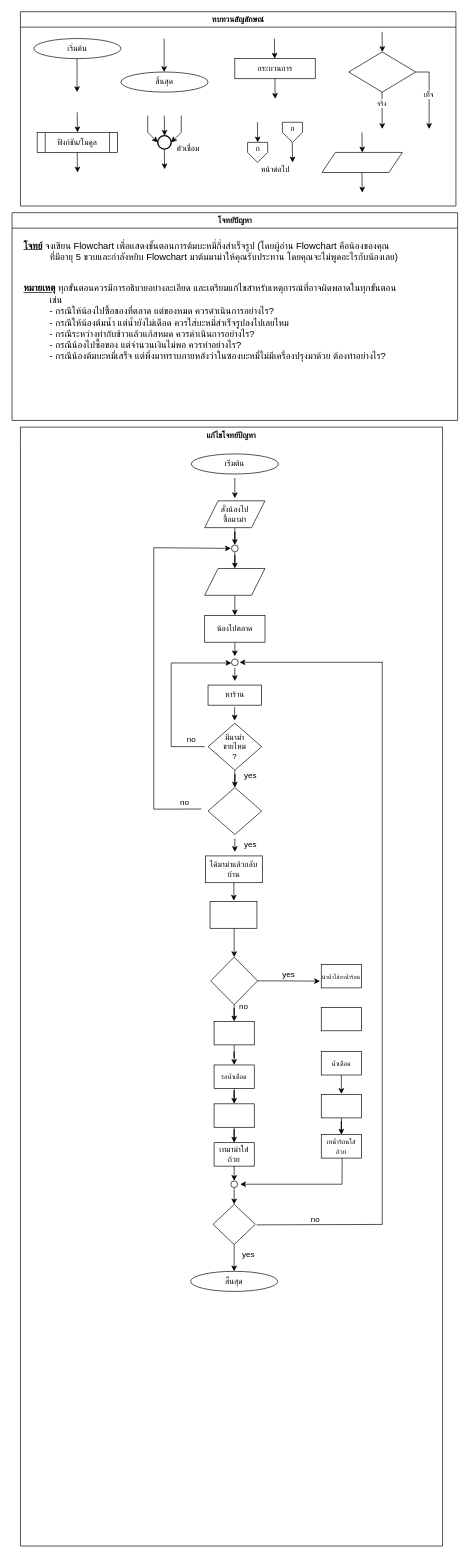
The diagram is 469 pixels wide and 1558 high, and some of its shapes have lost their labels. The shapes that lost their labels are listed below. From the top down, each one's centre as x and y in pixels, then its label:
point (382, 71): ประโยคเงื่อนไข
point (361, 162): แสดงผล/รับค่า
point (234, 581): ให้เงินน้อง
point (234, 810): เงินพอไหม
point (233, 914): นำน้ำใส่หม้อ
point (234, 980): แก๊สหมดมั้ย ?
point (233, 1033): ตั้งหม้อ
point (341, 1019): เสียบกาน้ำร้อน
point (233, 1115): ใส่มาม่าลง ในหม้อ
point (341, 1106): เอามาม่าใส่ถ้วย
point (233, 1224): มีเครื่องปรุง ไหม ?
